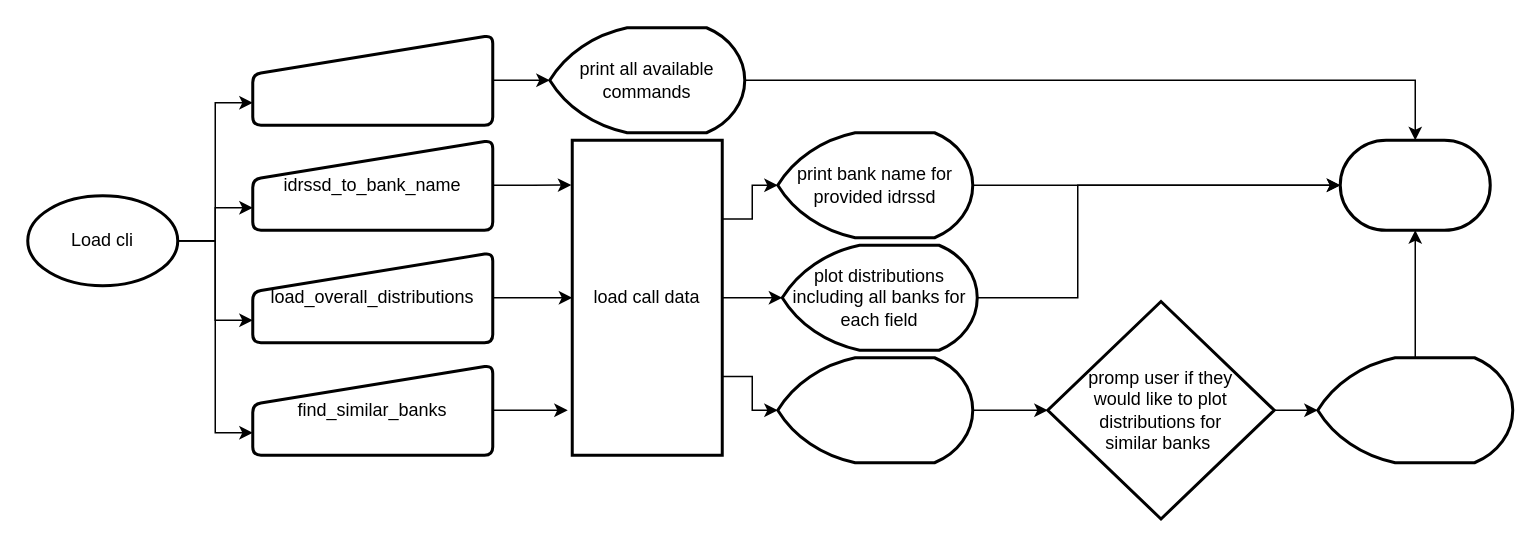
The diagram is 1539 pixels wide and 546 high, and some of its shapes have lost their labels. The box of each missing label's shape, as (x1, y1, x2, y2) in pixels:
end: (1338, 138, 1491, 231)
list_commands: (250, 33, 494, 126)
plot similar bank distributions for each field: (1316, 356, 1514, 464)
show list of idrssd for similar banks: (776, 356, 974, 464)
